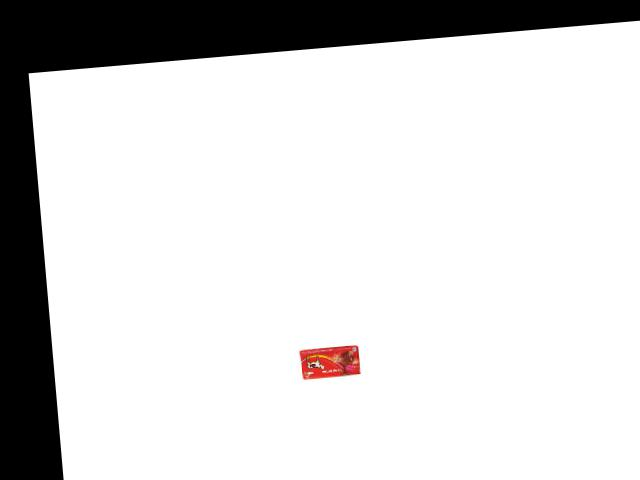chocolate: (296, 342, 361, 379)
